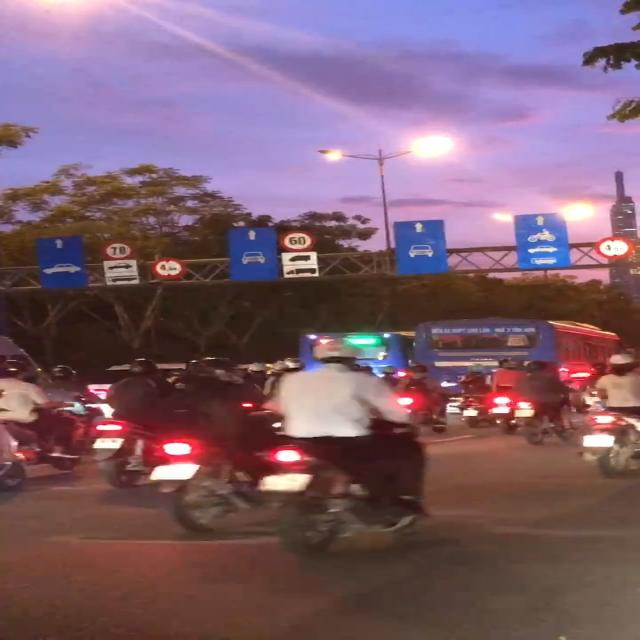Bien bao han che chieu cao: (150, 257, 187, 279)
Bien bao toc do toi da cho phep: (275, 230, 319, 252), (102, 241, 136, 260)
